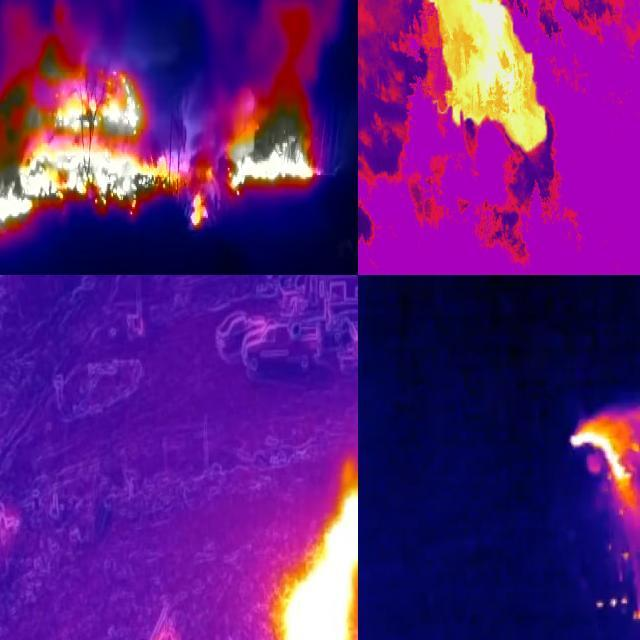fire: (1, 50, 215, 235), (393, 1, 558, 171), (279, 446, 359, 640), (227, 59, 328, 193), (569, 401, 640, 519)
